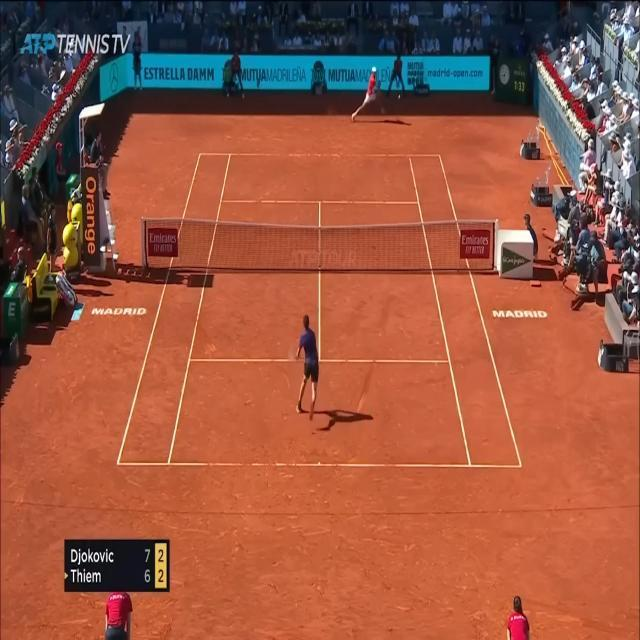court: (116, 153, 523, 468)
net: (139, 214, 500, 268)
player: (294, 314, 319, 418)
